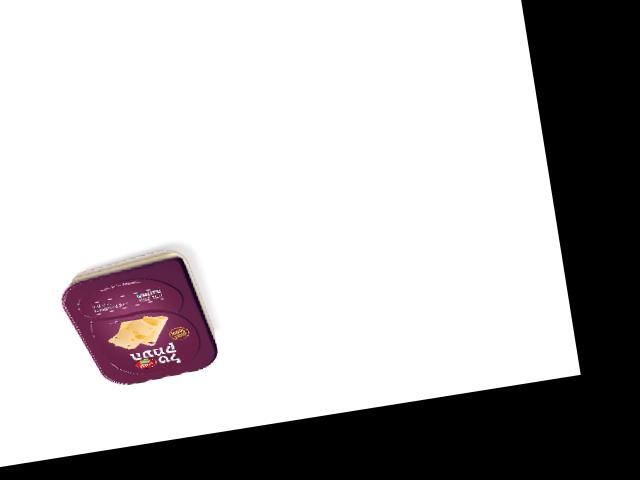cheese: (55, 244, 221, 394)
